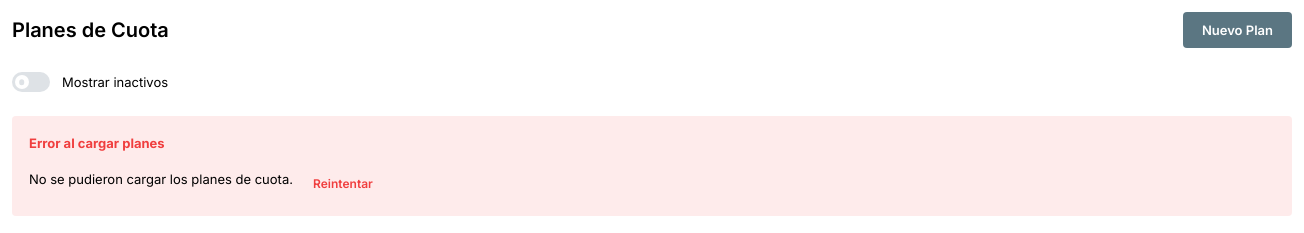
Scenario: FeePlansListPage › estado de error › deberia reintentar la carga al hacer click en Reintentar
Expected: the text "Error al cargar planes" is shown, [29,133,165,153]
// click en Reintentar
Click the button "Reintentar".
click(343, 184)  # box [293,169,393,199]
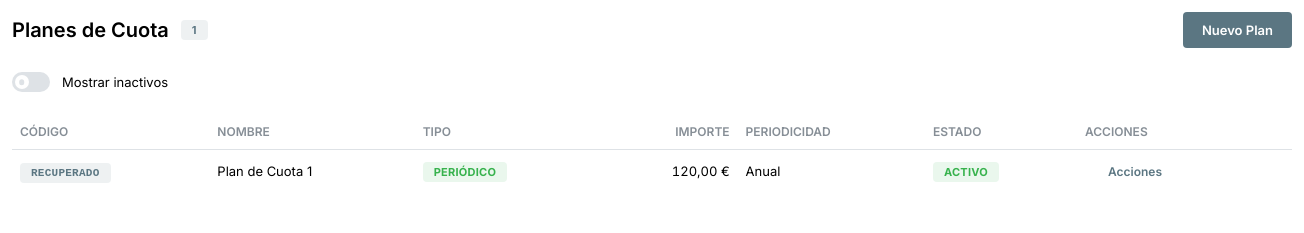
Expected: the text "RECUPERADO" is shown, [31,164,100,182]
